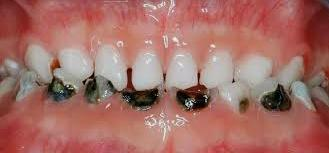Caries: (121, 83, 164, 118), (80, 75, 117, 106), (175, 88, 213, 118), (260, 82, 292, 113), (43, 79, 76, 103), (14, 72, 44, 98)
